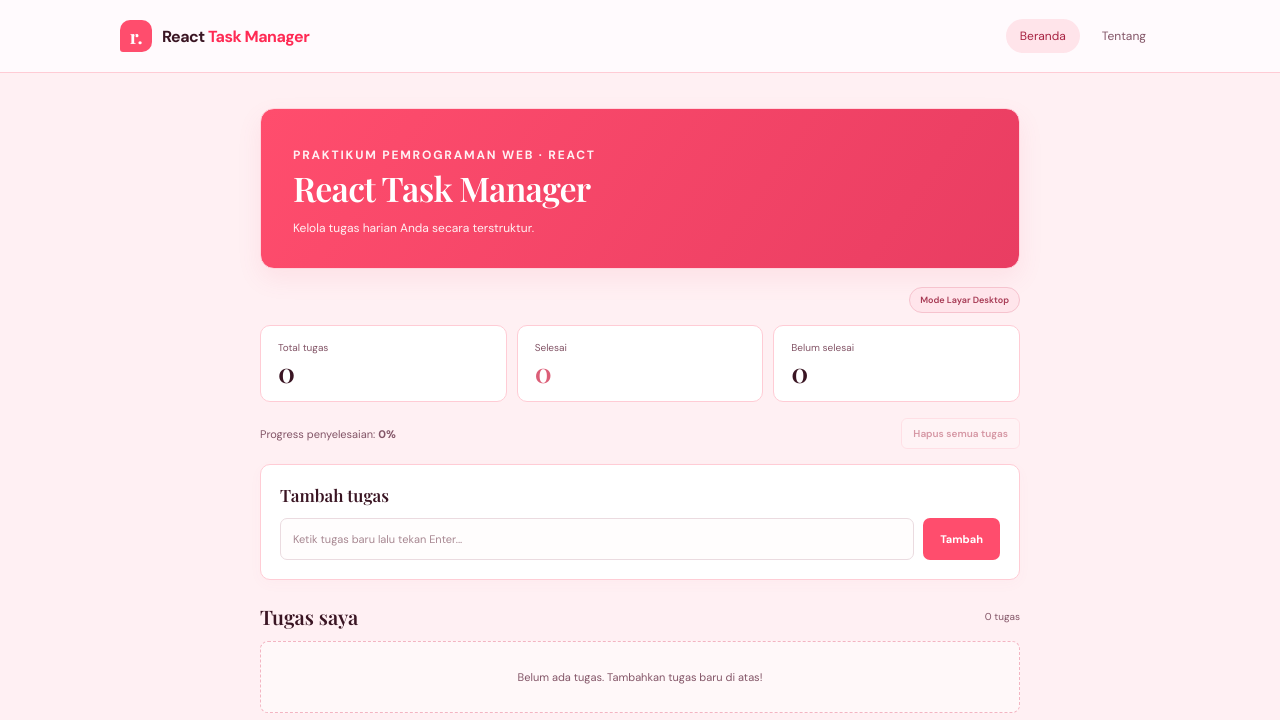
React Task Manager module › validates the required task title
What coordinates should you click on to do the following:
click the button "Tambah"
I would click on:
 (962, 539)
Its box is top-left (923, 518), bottom-right (1000, 560).
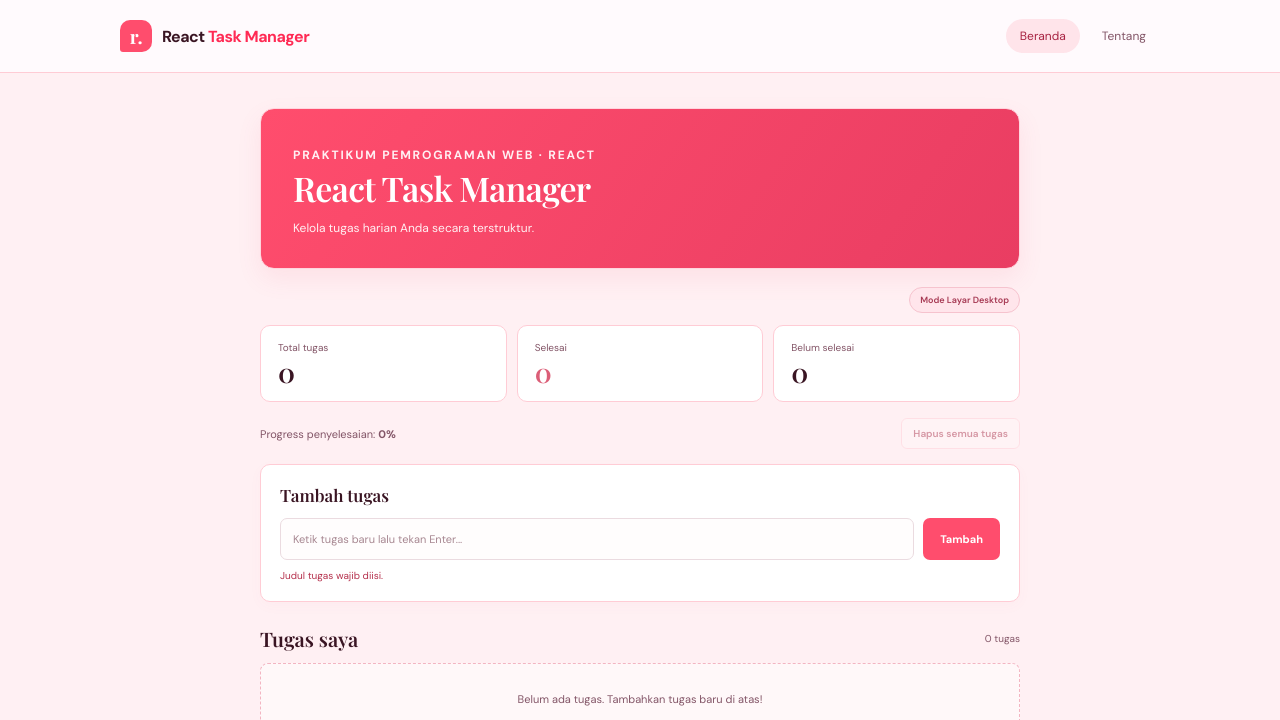
Now the message reads "Judul tugas wajib diisi.", box top-left (280, 569), bottom-right (383, 582)
